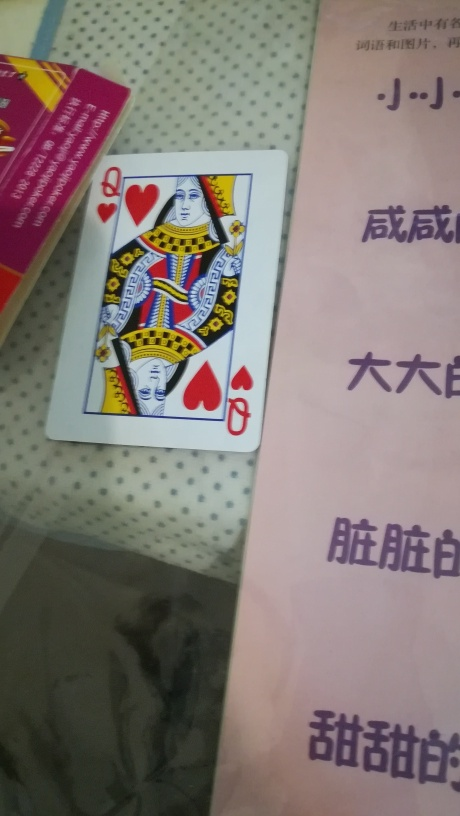hx q: (45, 148, 288, 465)
